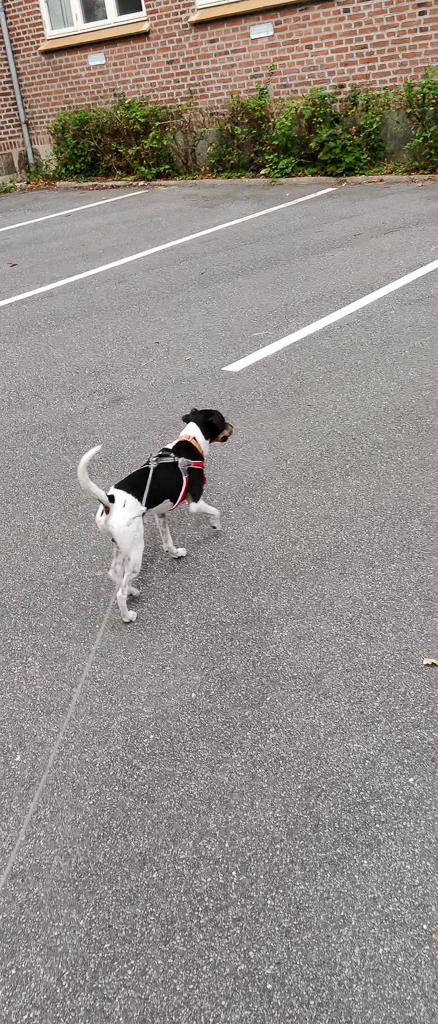Dog: (73, 390, 239, 633)
